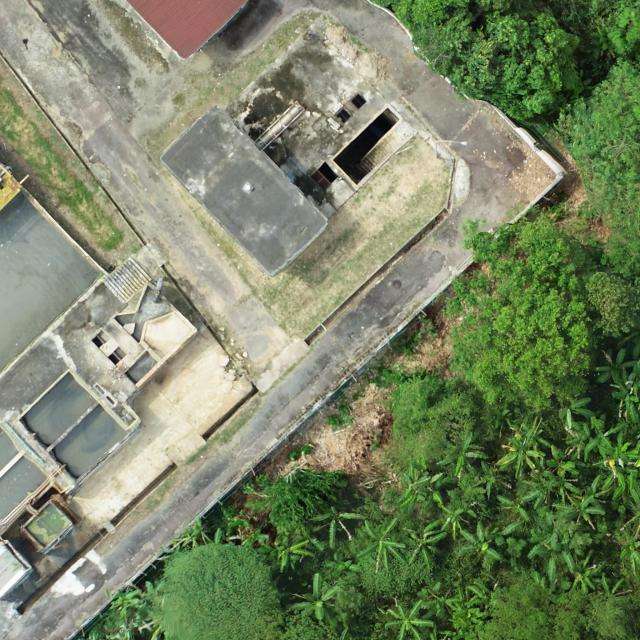Tree: (441, 211, 600, 411), (404, 0, 590, 124), (549, 57, 640, 278), (150, 540, 285, 640), (242, 444, 347, 534), (387, 375, 476, 467), (476, 577, 590, 640), (585, 269, 640, 340), (284, 572, 345, 620), (583, 589, 639, 640), (396, 463, 456, 509), (460, 518, 525, 560), (310, 505, 370, 550), (494, 429, 548, 478), (356, 518, 404, 573), (598, 430, 640, 492), (521, 470, 583, 510), (436, 431, 490, 476), (564, 412, 608, 461), (384, 599, 435, 640), (406, 518, 446, 570), (552, 495, 606, 530), (538, 534, 575, 582), (610, 364, 640, 422), (418, 583, 462, 621), (268, 536, 314, 572), (592, 348, 639, 383), (441, 500, 477, 540), (462, 580, 494, 624), (497, 489, 541, 521), (567, 548, 596, 594), (472, 462, 501, 501), (545, 443, 579, 475), (620, 534, 640, 576)
